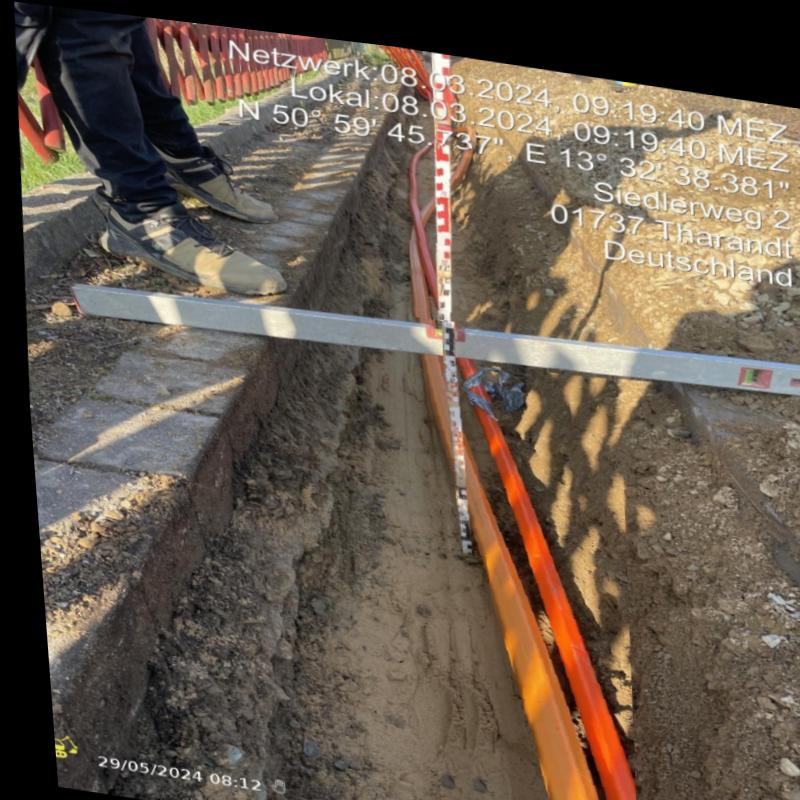Orang-Speednetrohrchen: (420, 346, 574, 800), (465, 389, 624, 800), (405, 138, 474, 310)
